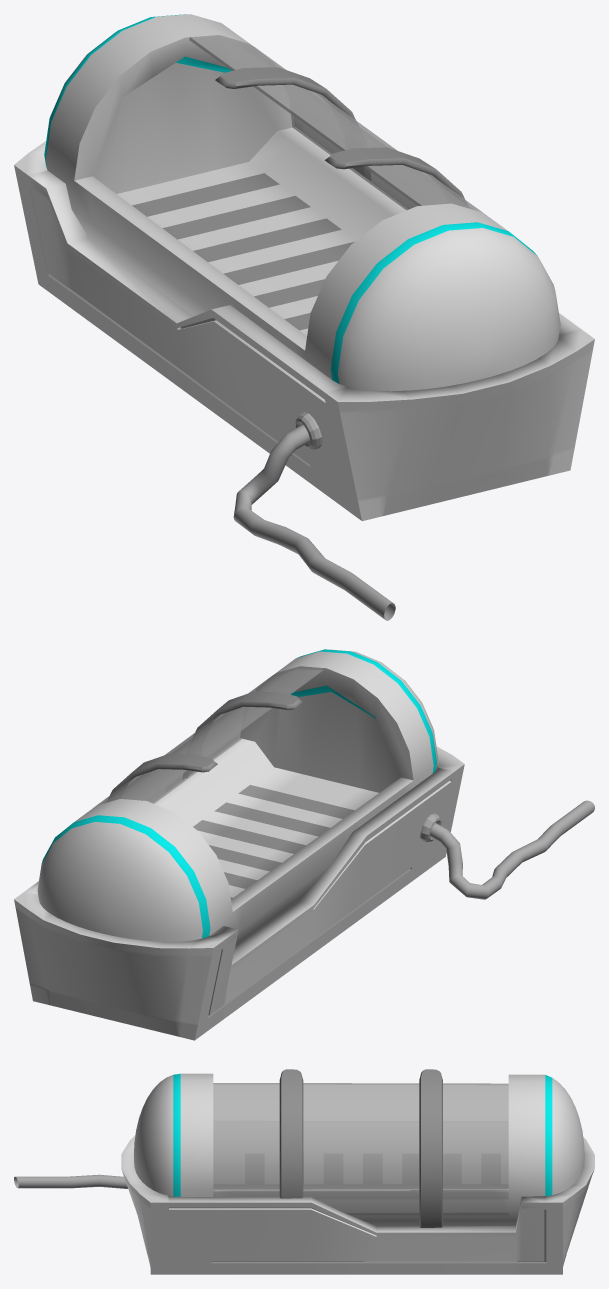
File: Pod_Open.fbx
3 renders of one model, top to bottom at view 1: azimuth 30°, elevation 25°; view 2: azimuth 150°, elevation 25°; view 3: azimuth 270°, elevation 25°, orthographic. The views are drawn at different scales.
Parts seen in each view (by area): view 1: pTorus5, pSphere16; view 2: pTorus5, pSphere16; view 3: pTorus5, pSphere16.
Boxes of the visible parts, left/top/right/bottom form: pTorus5: left=14, top=14, right=594, bottom=620; pSphere16: left=189, top=36, right=482, bottom=212; pTorus5: left=14, top=649, right=594, bottom=1040; pSphere16: left=96, top=667, right=323, bottom=805; pTorus5: left=14, top=1073, right=594, bottom=1274; pSphere16: left=213, top=1069, right=508, bottom=1227.
Size of the model in its own units: 1449 by 1149 by 3523.
